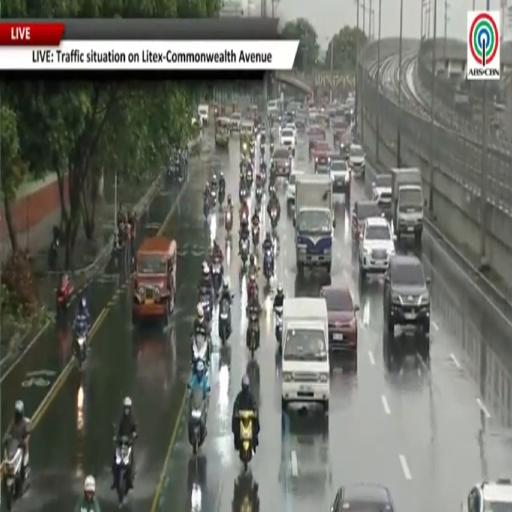car: (383, 254, 430, 358), (321, 286, 359, 369), (359, 217, 395, 279), (331, 484, 395, 511), (462, 478, 511, 511), (351, 200, 383, 243), (330, 156, 351, 203), (372, 173, 392, 215), (271, 147, 291, 178), (286, 170, 303, 204), (349, 144, 365, 178), (309, 125, 325, 156), (312, 140, 329, 167), (332, 117, 347, 147), (280, 127, 295, 156), (339, 130, 352, 160), (315, 163, 332, 179), (240, 120, 254, 138), (198, 104, 209, 125), (230, 112, 241, 132), (285, 120, 296, 137)
jeepney: (132, 236, 176, 325), (240, 120, 254, 154), (215, 117, 229, 148)
motorcycle: (2, 437, 25, 510), (114, 437, 133, 504), (188, 388, 206, 455), (238, 410, 255, 472), (233, 473, 260, 511), (192, 334, 211, 366), (75, 326, 88, 368), (247, 313, 259, 358), (57, 284, 73, 316), (219, 299, 230, 344), (200, 290, 212, 322), (212, 259, 222, 297), (48, 239, 59, 270), (264, 249, 273, 283), (275, 307, 282, 349), (247, 275, 258, 299), (240, 238, 249, 265), (252, 224, 260, 247), (270, 208, 278, 230), (225, 210, 232, 233), (210, 188, 217, 206), (218, 187, 225, 205), (246, 167, 253, 185), (260, 163, 266, 183), (239, 187, 247, 202), (256, 187, 262, 205), (204, 198, 209, 218), (260, 141, 264, 154), (270, 142, 274, 154)
truck: (294, 174, 335, 275), (391, 168, 424, 246)
